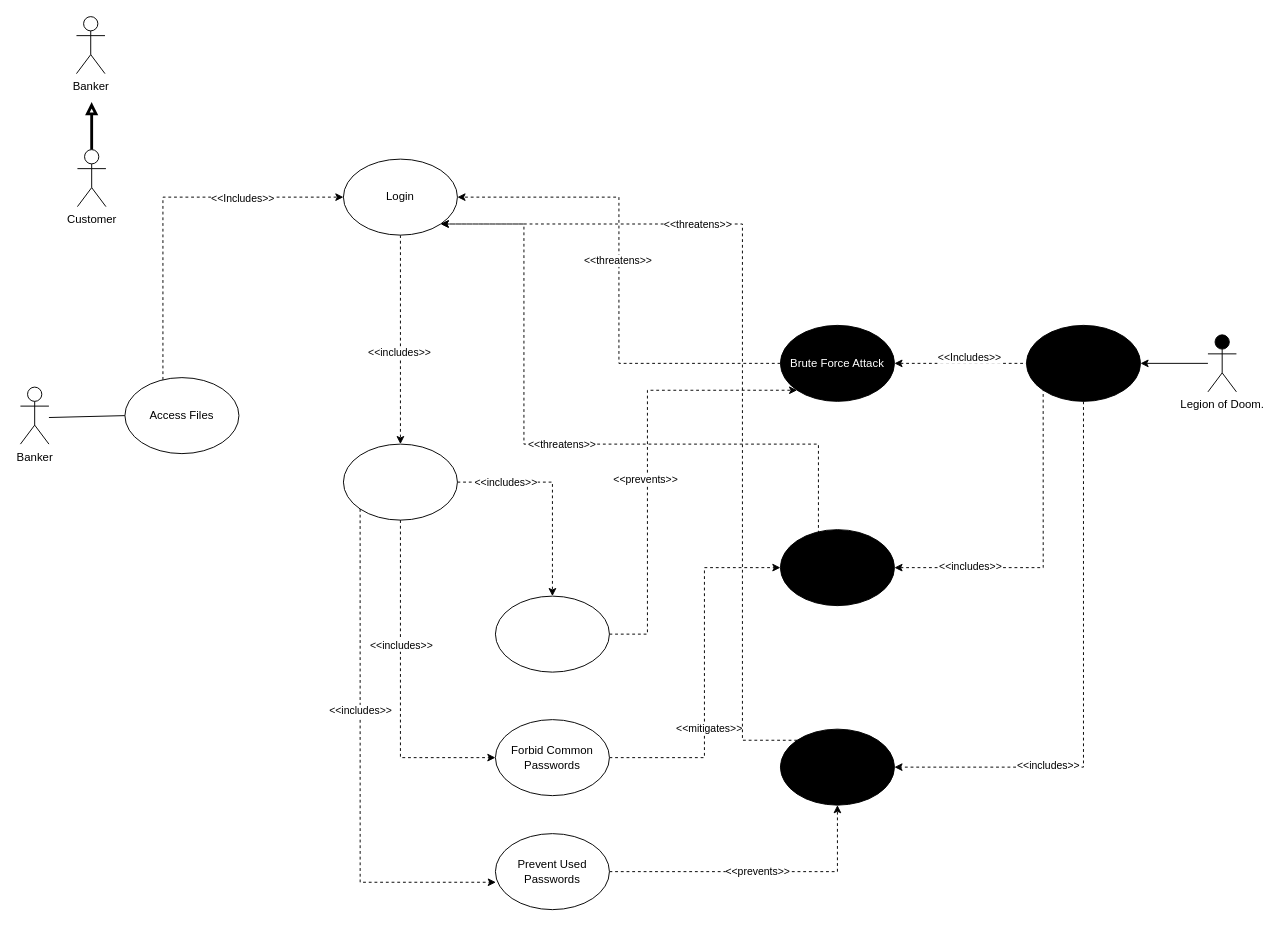
Image size: 1280x926. Some labels were removed from this diagram. Each missing label, with the centre of its shape:
Account Lockout Policy: the point at 551,633
Credential Stuffing: the point at 836,766
Dictionary Attack: the point at 836,567
Impersonate Users: the point at 1083,362
User Password Policy: the point at 399,481
